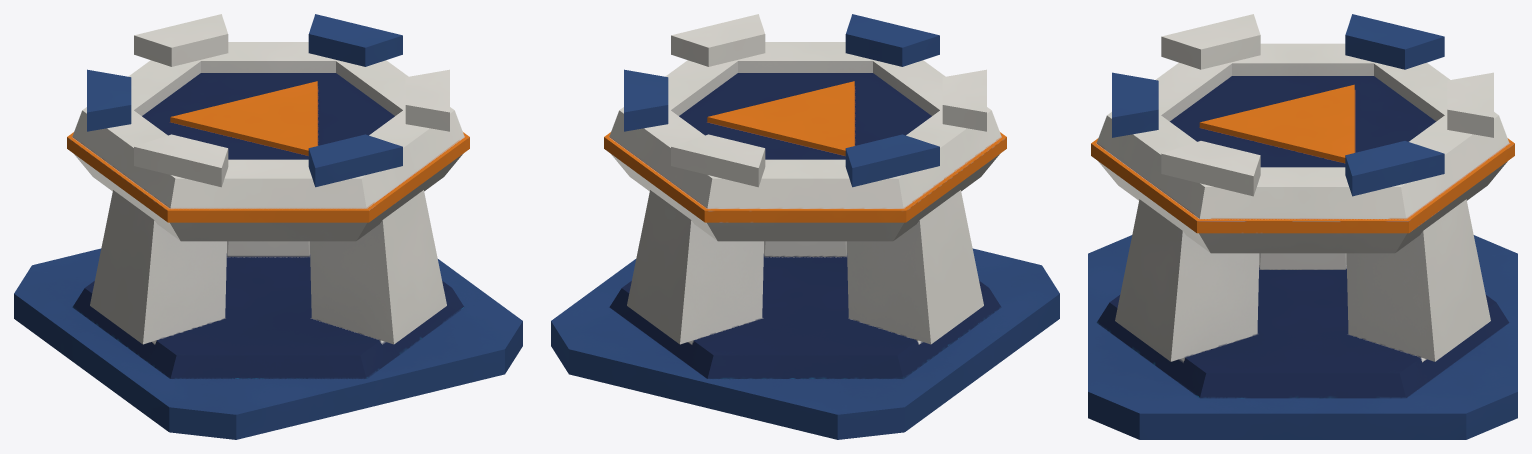
File: R4X_FlyingDroneDeployer.glb
3 views of the same model, side by side, from view 1: azimuth 30°, elevation 25°; view 2: azimuth 150°, elevation 25°; view 3: azimuth 270°, elevation 25° (orthographic). The views are drawn at different scales.
Parts seen in each view (by area): view 1: R4X_FlyingDroneDeployer_Body, R4X_FlyingDroneDeployer_Iris; view 2: R4X_FlyingDroneDeployer_Body, R4X_FlyingDroneDeployer_Iris; view 3: R4X_FlyingDroneDeployer_Body, R4X_FlyingDroneDeployer_Iris.
Part boxes in pixels (box(x1,y1,x2,y2)): R4X_FlyingDroneDeployer_Body: box(14, 42, 522, 439); R4X_FlyingDroneDeployer_Iris: box(87, 14, 449, 187); R4X_FlyingDroneDeployer_Body: box(551, 42, 1059, 439); R4X_FlyingDroneDeployer_Iris: box(624, 14, 986, 187); R4X_FlyingDroneDeployer_Body: box(1088, 43, 1517, 439); R4X_FlyingDroneDeployer_Iris: box(1112, 14, 1493, 196).
Bounding box in the file's own units: 0.5 × 0.326 × 0.5.
Materials: 1 (1 with a texture image).
